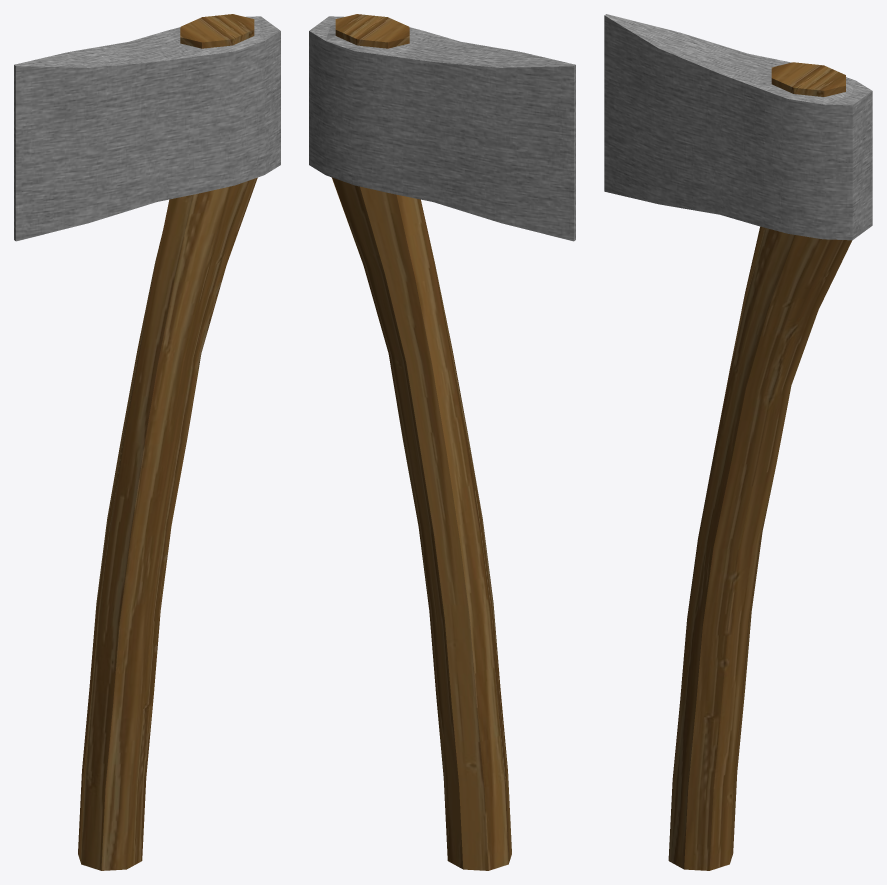
File: axe.gltf
The picture shows the model from 3 angles, left to right: view 1: azimuth 30°, elevation 25°; view 2: azimuth 150°, elevation 25°; view 3: azimuth 330°, elevation 25°; orthographic projection.
Parts seen in each view (by area): view 1: Axe.001; view 2: Axe.001; view 3: Axe.001.
Boxes of the visible parts, left/top/right/bottom form: Axe.001: left=14, top=14, right=280, bottom=870; Axe.001: left=309, top=14, right=575, bottom=870; Axe.001: left=604, top=14, right=872, bottom=870.
Size of the model in its own units: 0.00881 by 0.0268 by 0.00231.
1 material, 1 textured.
